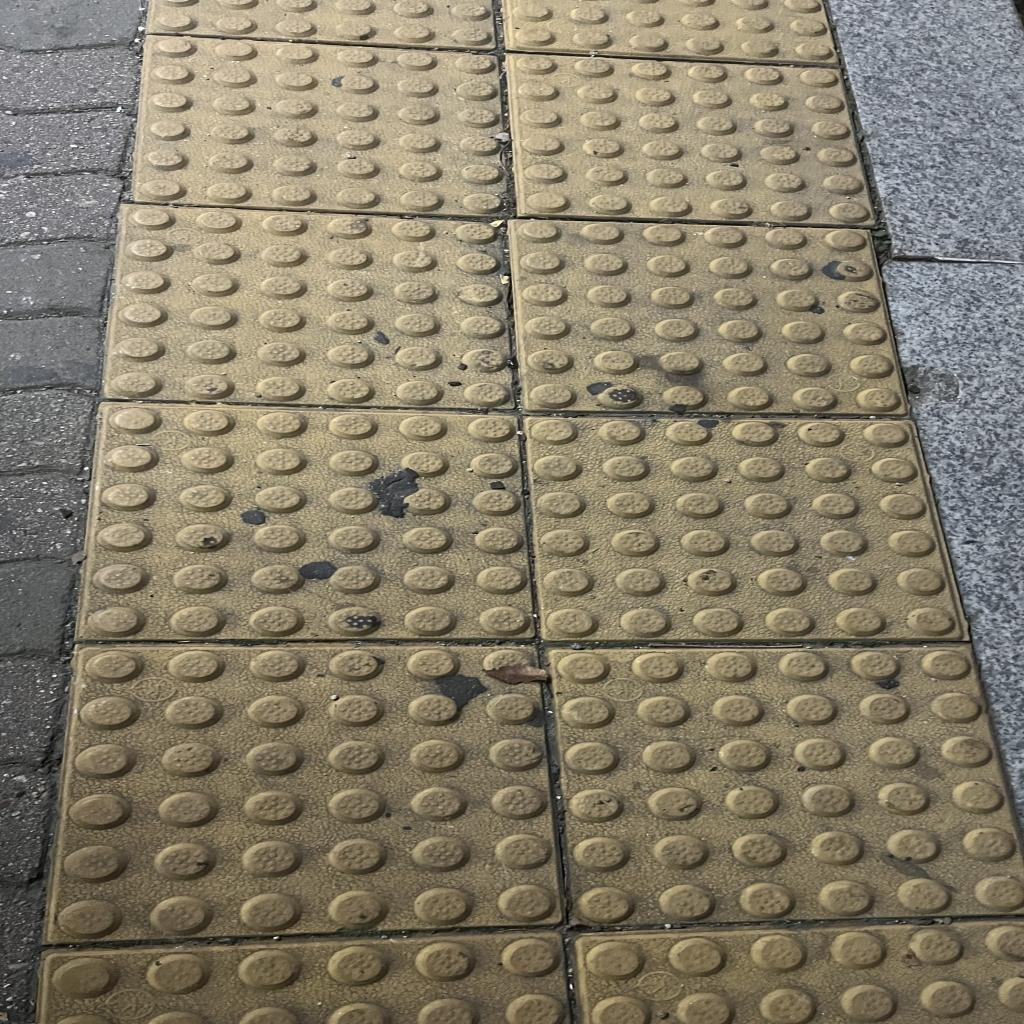Stop block normal: (80, 401, 532, 637), (504, 220, 911, 420)
